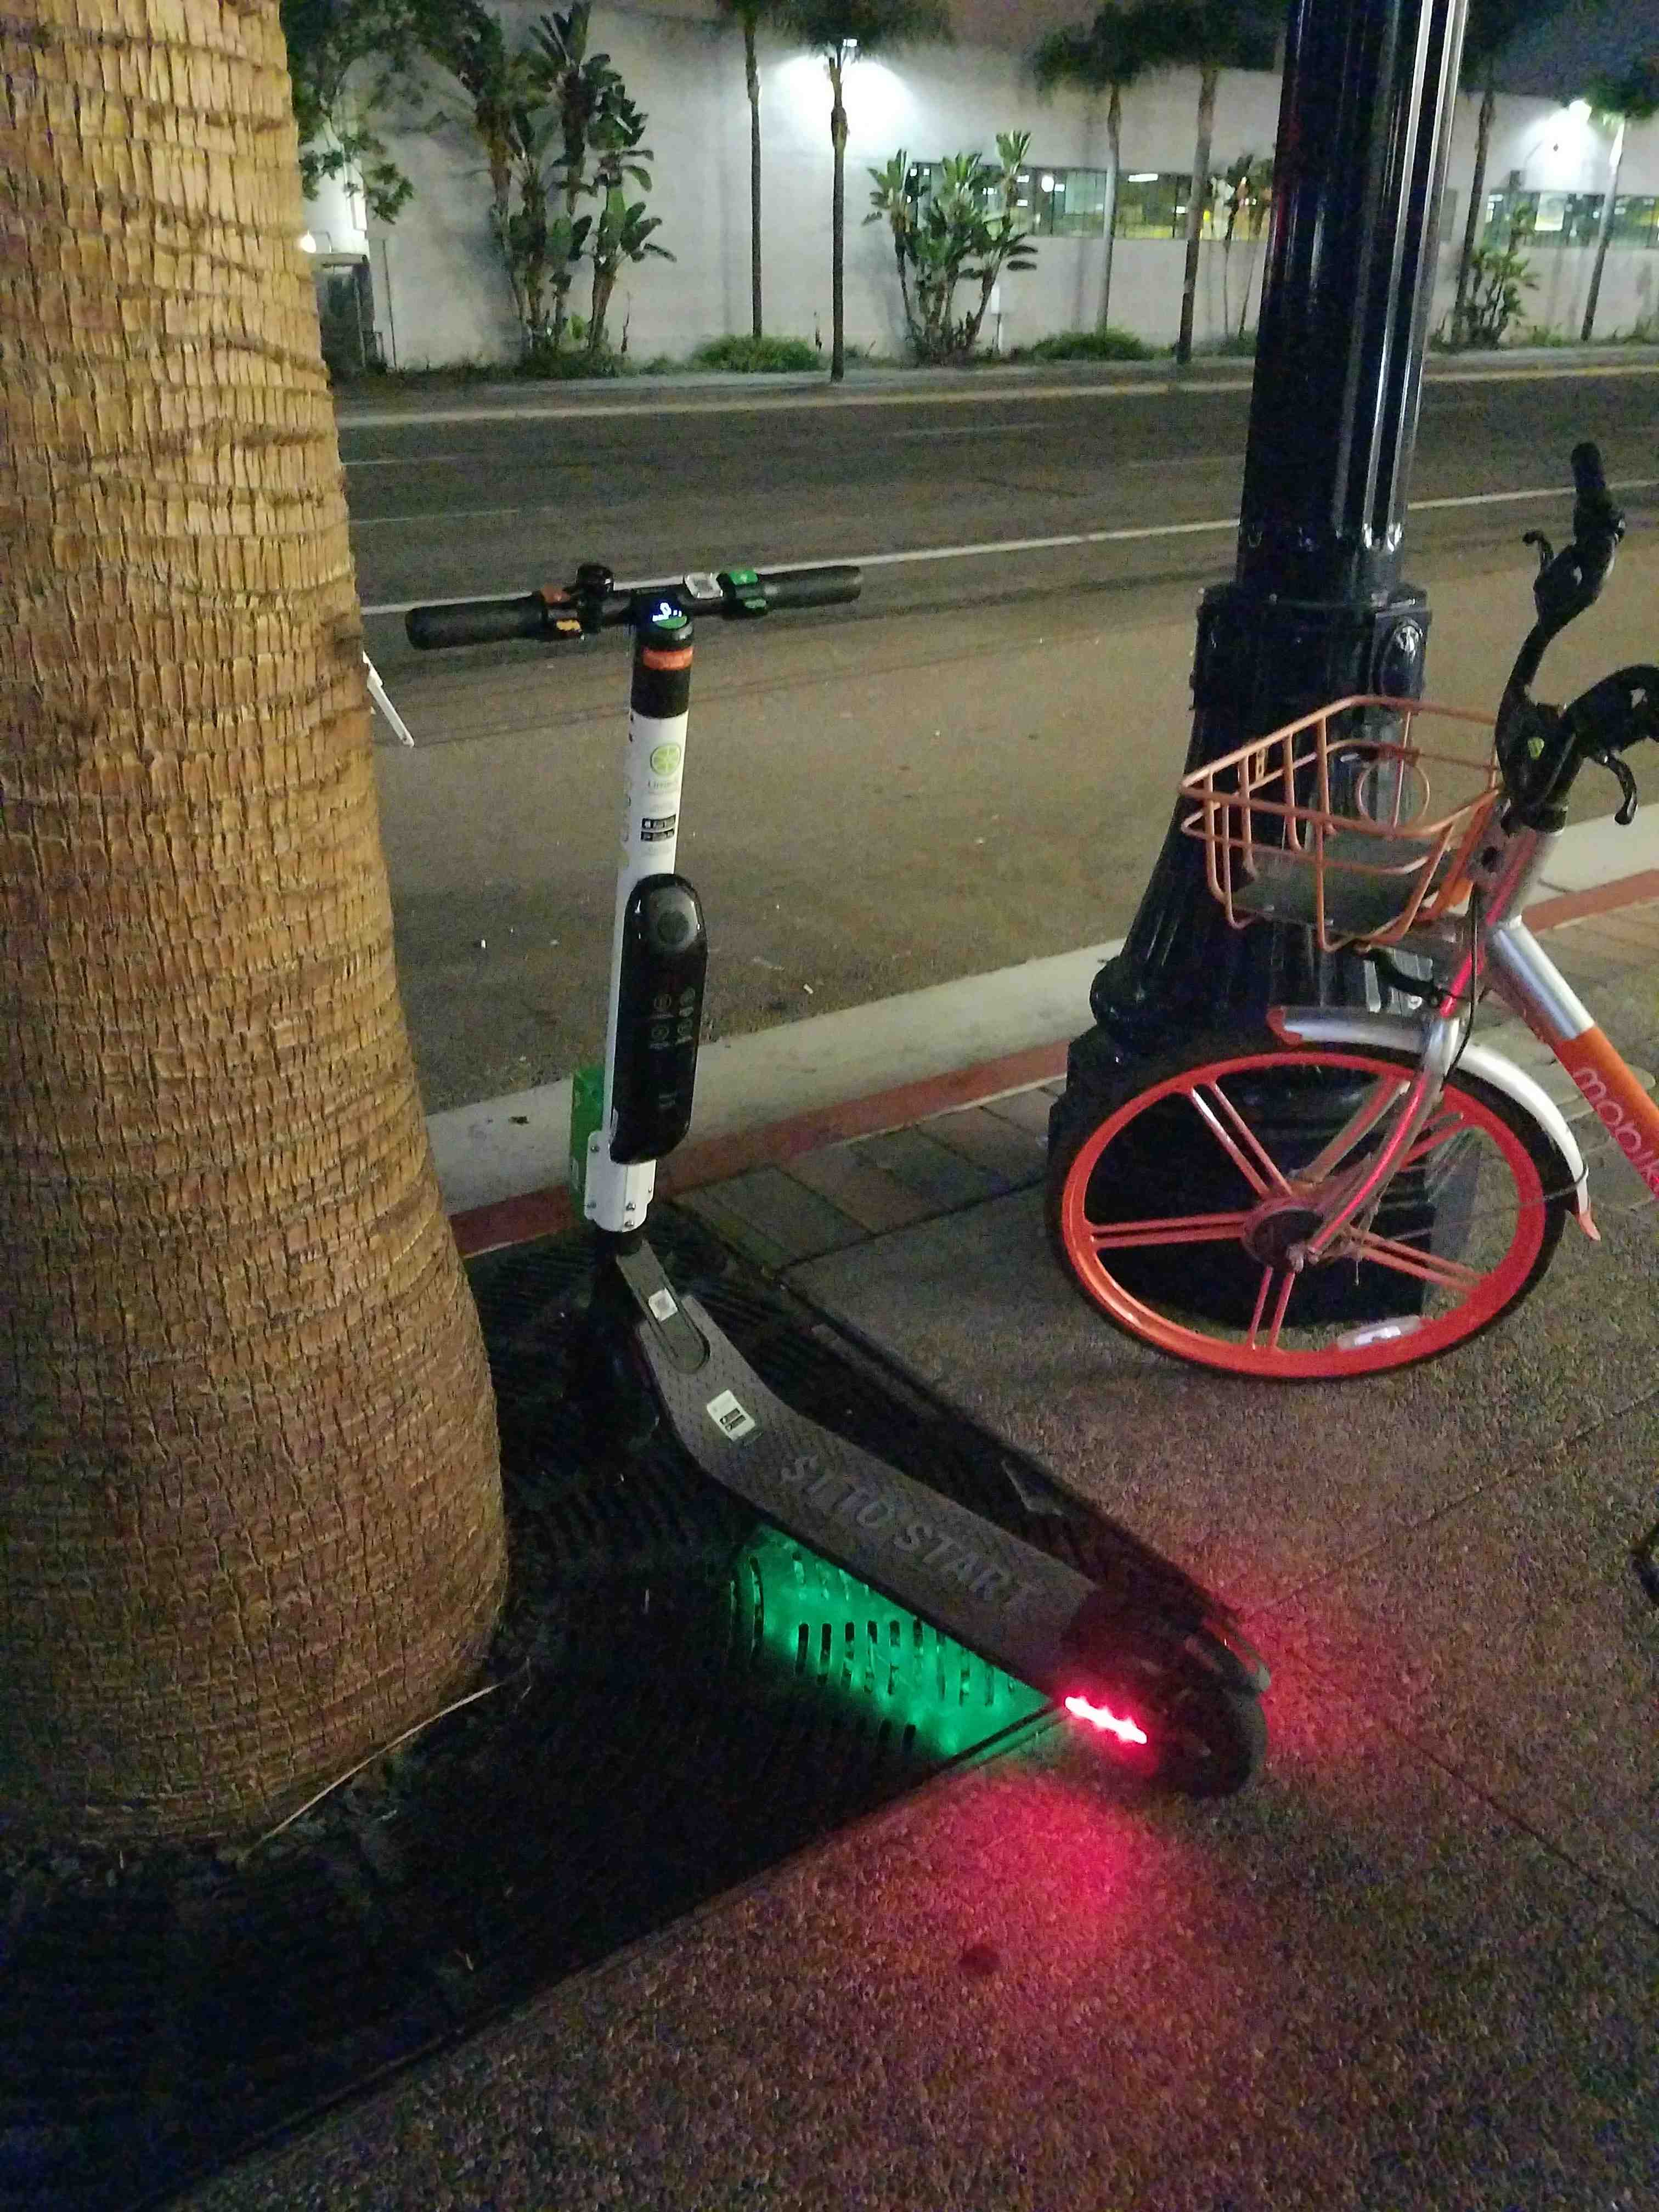scooter: (390, 514, 1279, 1858)
